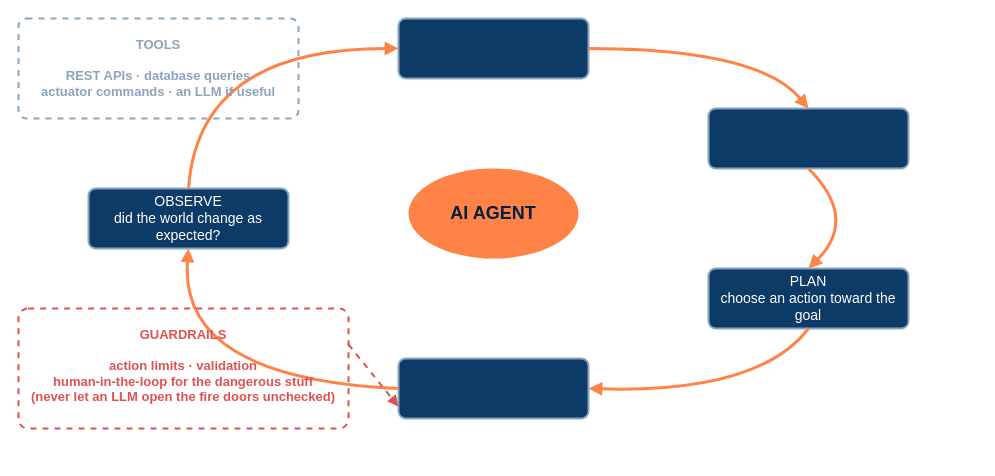
Image size: 995x476. Some labels were removed from this diagram. Here are the shapes that lost their labels. From the top down, the centre of each, then its label:
At point (493, 48): "PERCEIVE read sensors, query the pipeline".
At point (808, 138): "REASON what is happening? what matters?".
At point (493, 388): "ACT command actuators (via tools)".
